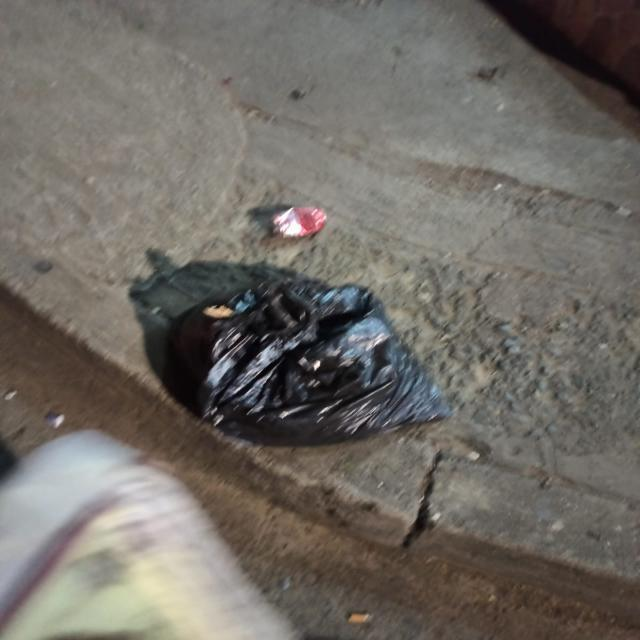Garbage_Bag: (156, 274, 457, 443)
